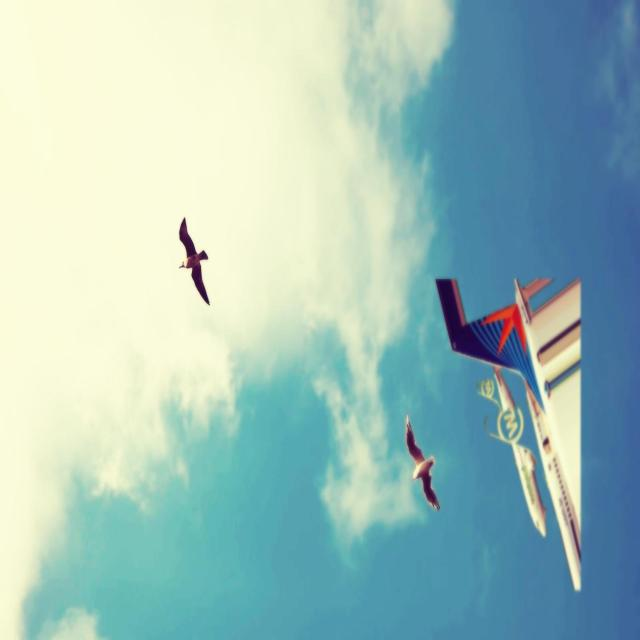airplane: (435, 274, 582, 591)
